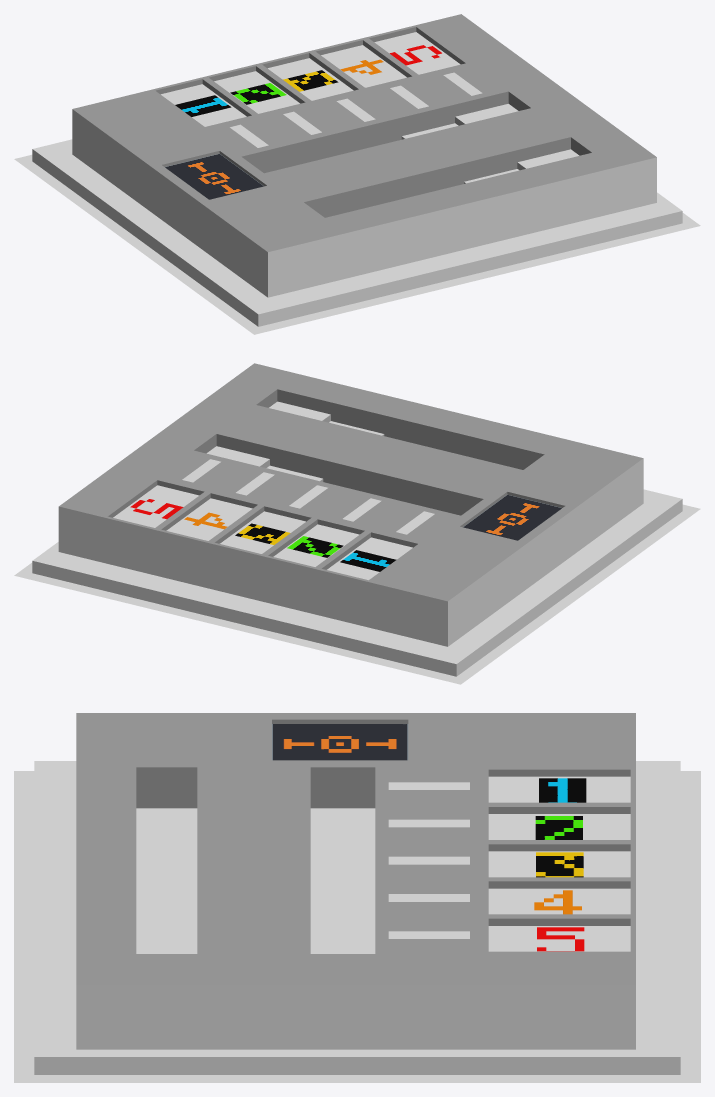
The model's file is AnomalyPalancaEnergiaHorizontal.fbx.
The picture shows the model from 3 angles, top to bottom: view 1: azimuth 30°, elevation 25°; view 2: azimuth 150°, elevation 25°; view 3: azimuth 270°, elevation 25°; orthographic projection. The views are drawn at different scales.
Parts seen in each view (by area): view 1: Cube.021; view 2: Cube.021; view 3: Cube.021.
Boxes of the visible parts, x1=… form: Cube.021: x1=14, y1=14, x2=700, y2=334; Cube.021: x1=14, y1=363, x2=700, y2=684; Cube.021: x1=14, y1=713, x2=700, y2=1082.
Size of the model in its own units: 13.95 by 1.73 by 12.99.
